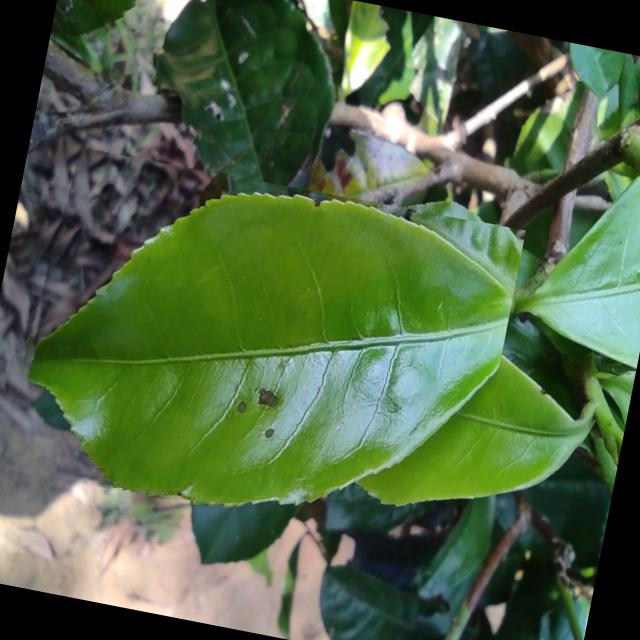Category B(2-4 days): (0, 139, 525, 557)
